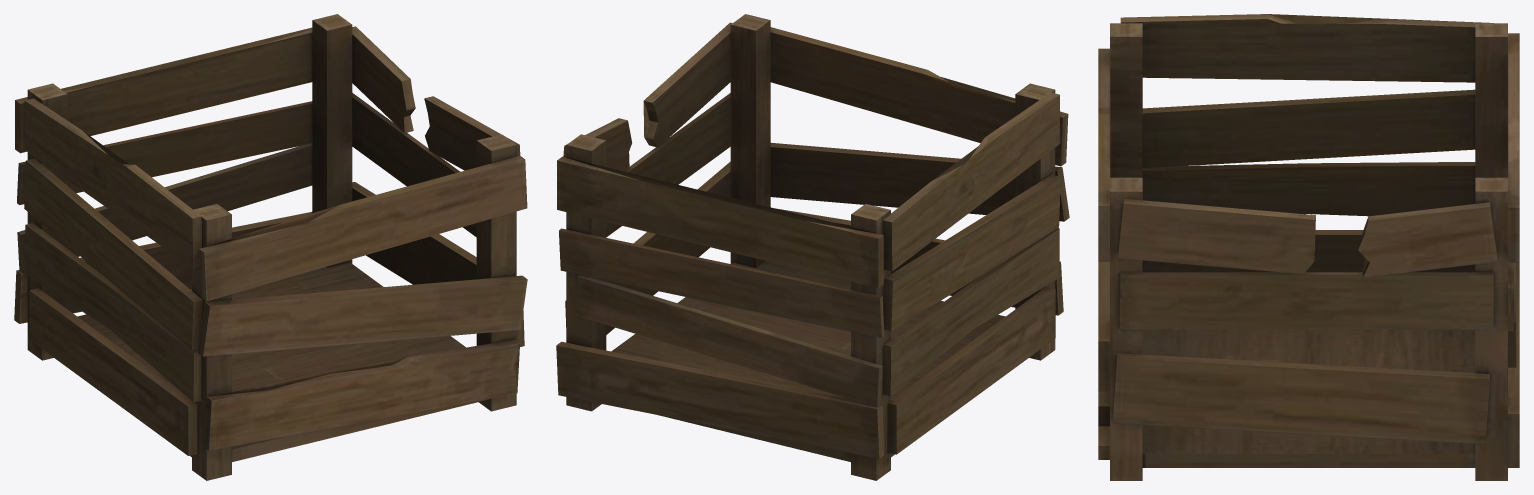
The model's file is crate_slat.l.9be3b866.glb.
3 views of the same model, side by side, from view 1: azimuth 30°, elevation 25°; view 2: azimuth 150°, elevation 25°; view 3: azimuth 270°, elevation 25° (orthographic). The views are drawn at different scales.
Visible parts, largest first — view 1: crate3; view 2: crate3; view 3: crate3.
Boxes of the visible parts, <box> form: crate3: <box>14,14,527,480</box>; crate3: <box>556,14,1069,480</box>; crate3: <box>1098,14,1519,480</box>.
Bounding box in the file's own units: 0.9282 × 0.71 × 0.9232.
Materials: 1 (1 with a texture image).
